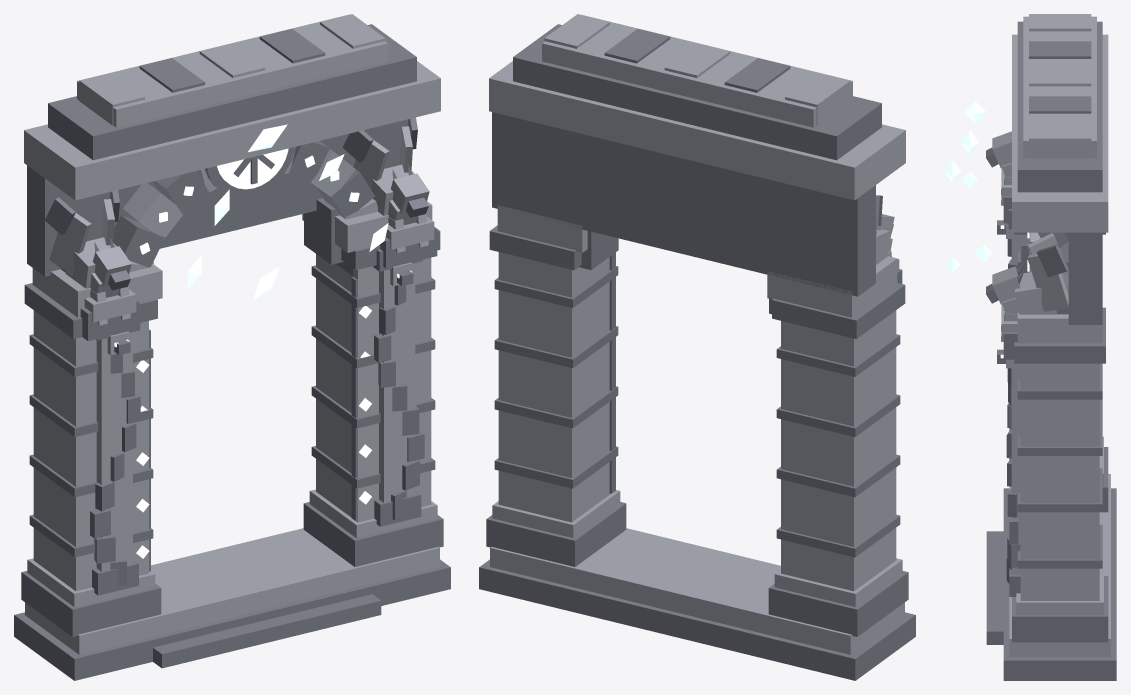
Rendered from colosseum_door.glb.
3 renders of one model, left to right at view 1: azimuth 30°, elevation 25°; view 2: azimuth 150°, elevation 25°; view 3: azimuth 270°, elevation 25°, orthographic. The views are drawn at different scales.
Visible parts, largest first — view 1: Base_1, Cornice_0, JambShaft_L, JambShaft_R, Cornice_1, Tympanum, Cornice_2, Base_0, Pilaster_R, Pilaster_L, Threshold, Plinth_L (+43 smaller); view 2: Tympanum, JambShaft_L, JambShaft_R, Base_1, Cornice_0, Cornice_1, Base_0, Cornice_2, Plinth_L, Plinth_R, Impost_L, Capital_L (+19 smaller); view 3: JambShaft_R, Cornice_0, Cornice_1, Base_0, Cornice_2, Tympanum, Plinth_R, Base_1, Impost_R, Merlon_4, Capital_R, Threshold (+21 smaller).
Boxes of the visible parts, x1,y1,x2,y2 form: Base_1: (25,528,439,654); Cornice_0: (24,61,440,200); JambShaft_L: (33,310,148,591); JambShaft_R: (316,254,431,522); Cornice_1: (48,24,416,160); Tympanum: (27,119,408,276); Cornice_2: (77,14,387,127); Base_0: (14,559,450,680); Pilaster_R: (379,263,415,502); Pilaster_L: (96,332,132,571); Threshold: (153,594,381,668); Plinth_L: (21,571,161,636); Tympanum: (492,112,875,296); JambShaft_L: (781,310,896,591); JambShaft_R: (498,252,610,522); Base_1: (490,528,904,654); Cornice_0: (489,61,905,200); Cornice_1: (513,24,881,160); Base_0: (479,559,915,680); Cornice_2: (542,14,852,127); Plinth_L: (768,571,908,636); Plinth_R: (486,502,626,566); Impost_L: (767,256,897,317); Capital_L: (772,283,905,338); JambShaft_R: (1020,363,1099,600); Cornice_0: (1012,34,1108,232); Cornice_1: (1017,21,1102,192); Base_0: (1003,488,1116,680); Cornice_2: (1023,16,1096,157); Tympanum: (1068,232,1102,324); Plinth_R: (1012,576,1108,642); Base_1: (1009,474,1110,656); Impost_R: (1017,312,1102,343); Merlon_4: (1029,124,1091,158); Capital_R: (1014,307,1105,363); Threshold: (986,531,1003,644).
Size of the model in its own units: 7.2 by 10.12 by 3.05.
